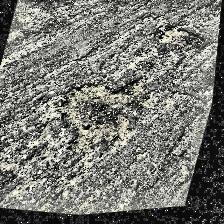pothole: (41, 66, 168, 166)
